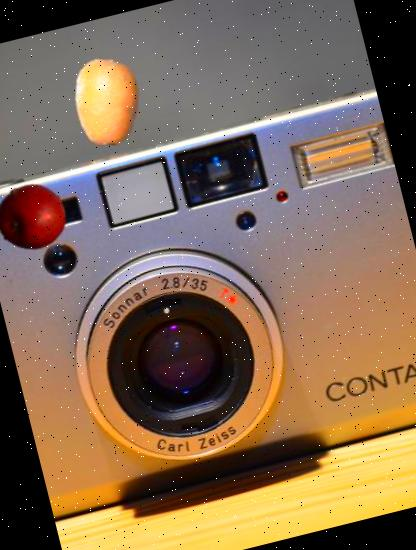Apple: (0, 174, 74, 259)
Kumquats: (55, 50, 158, 154)
